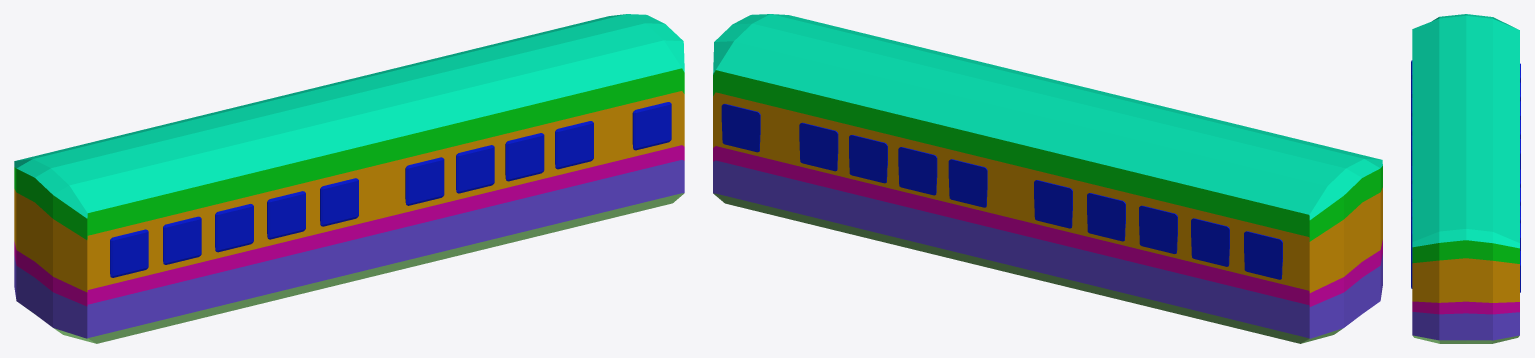
Rendered from fixed_cargotrain.fbx.
3 views of the same model, side by side, from view 1: azimuth 30°, elevation 25°; view 2: azimuth 150°, elevation 25°; view 3: azimuth 270°, elevation 25° (orthographic). The views are drawn at different scales.
Visible parts, largest first — view 1: Cube; view 2: Cube; view 3: Cube.
Boxes of the visible parts, box(x1,y1,x2,y2) form: Cube: box(14, 14, 684, 343); Cube: box(713, 14, 1382, 343); Cube: box(1411, 14, 1520, 343).
Bounding box in the file's own units: 210 × 1023 × 236.
